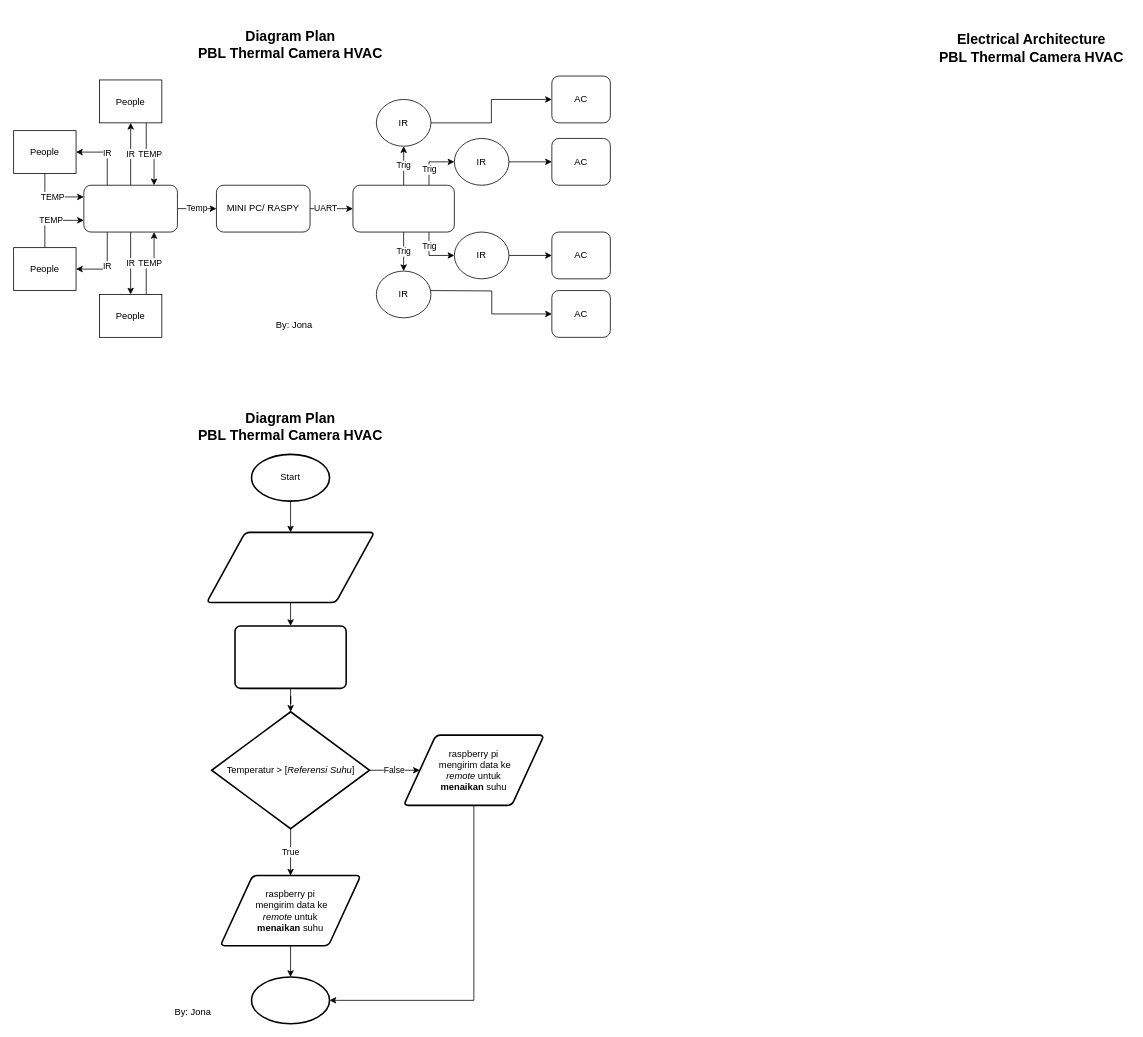
This 1143x1037 diagram has some shape labels left out. Each missing label, with the box of its shape:
Data dikalkulasi oleh Raspi untuk memperoleh Hasil Temperatur rata-rata: (234, 625, 347, 689)
End: (250, 976, 330, 1024)
THERMAL CAMERA: (83, 184, 177, 232)
Thermal Camera mengumpulkan data suhu orang di dalam ruangan: (206, 531, 375, 603)
UNIVERSAL REMOTE MICORCONTROLLER: (352, 184, 454, 232)
